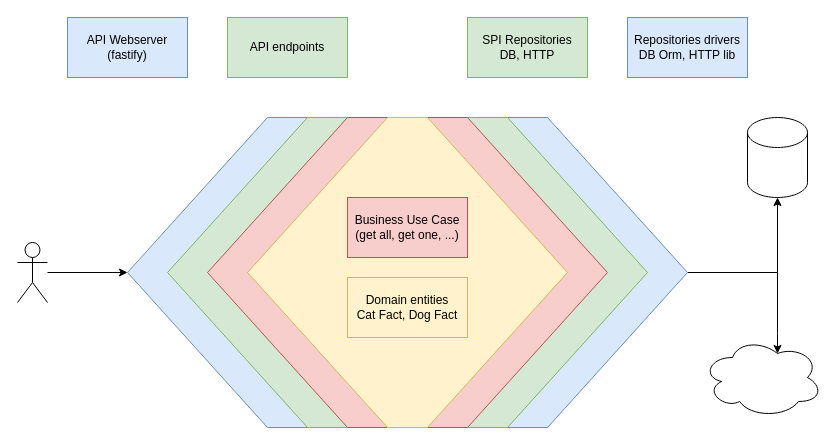
This 840x445 diagram has some shape labels left out. Each missing label, with the centre of its shape:
"Actor" belongs at pixel 32 272.
"Cat Facts API" belongs at pixel 762 377.
"Dog Facts DB" belongs at pixel 777 157.
